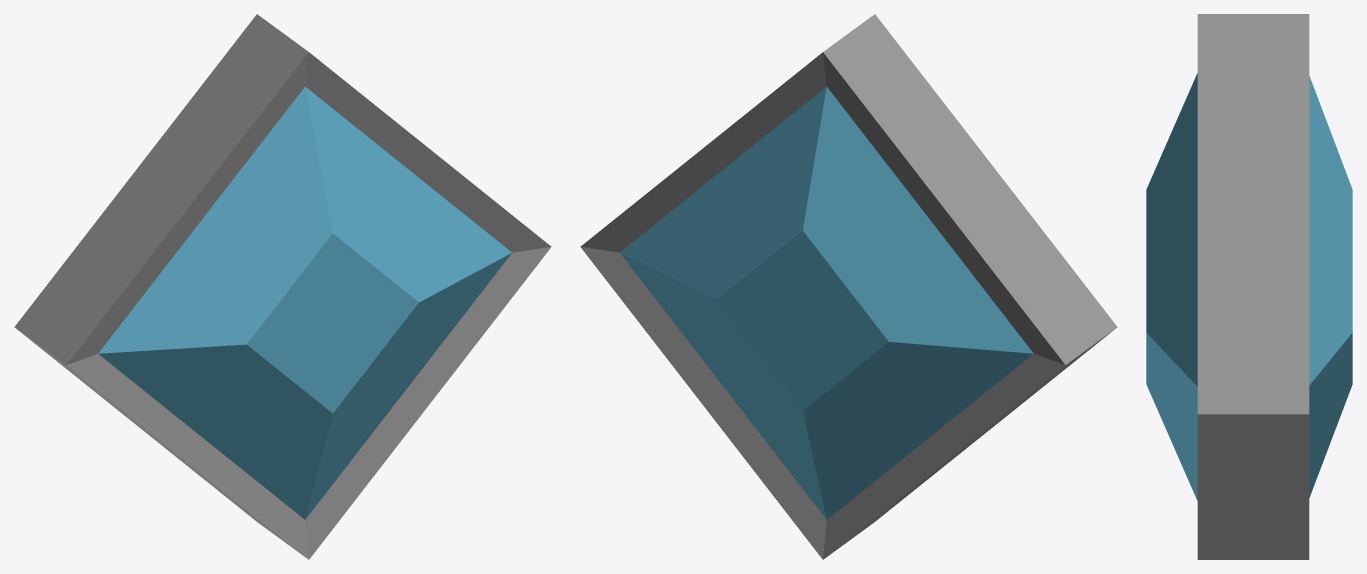
Rendered from GemaAzul_tier2.fbx.
3 renders of one model, left to right at view 1: azimuth 30°, elevation 25°; view 2: azimuth 150°, elevation 25°; view 3: azimuth 270°, elevation 25°, orthographic. The views are drawn at different scales.
Parts seen in each view (by area): view 1: GemaAzul02; view 2: GemaAzul02; view 3: GemaAzul02.
Boxes of the visible parts, box(x1,y1,x2,y2) form: GemaAzul02: box(14, 14, 551, 559); GemaAzul02: box(580, 14, 1117, 559); GemaAzul02: box(1146, 14, 1352, 559).
Bounding box in the file's own units: 71.7 × 71.7 × 24.6.
